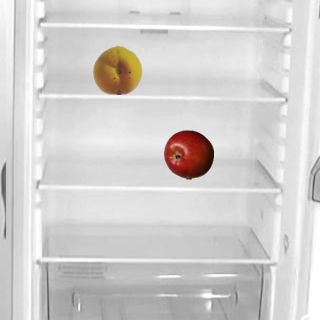Apple Braeburn: (163, 129, 213, 179)
Peach 2: (92, 44, 142, 94)
